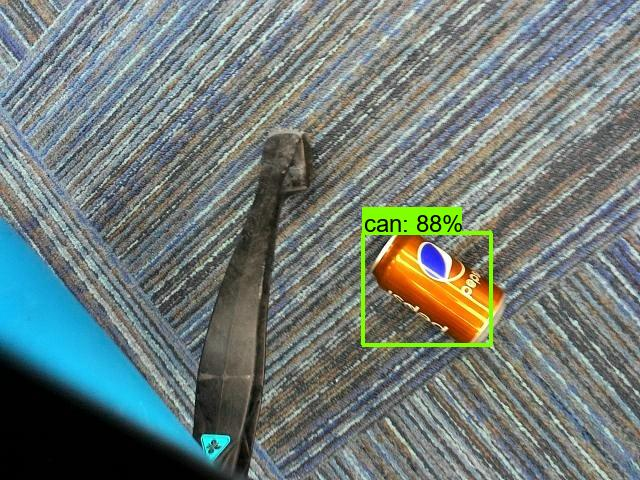can: (361, 222, 517, 362)
